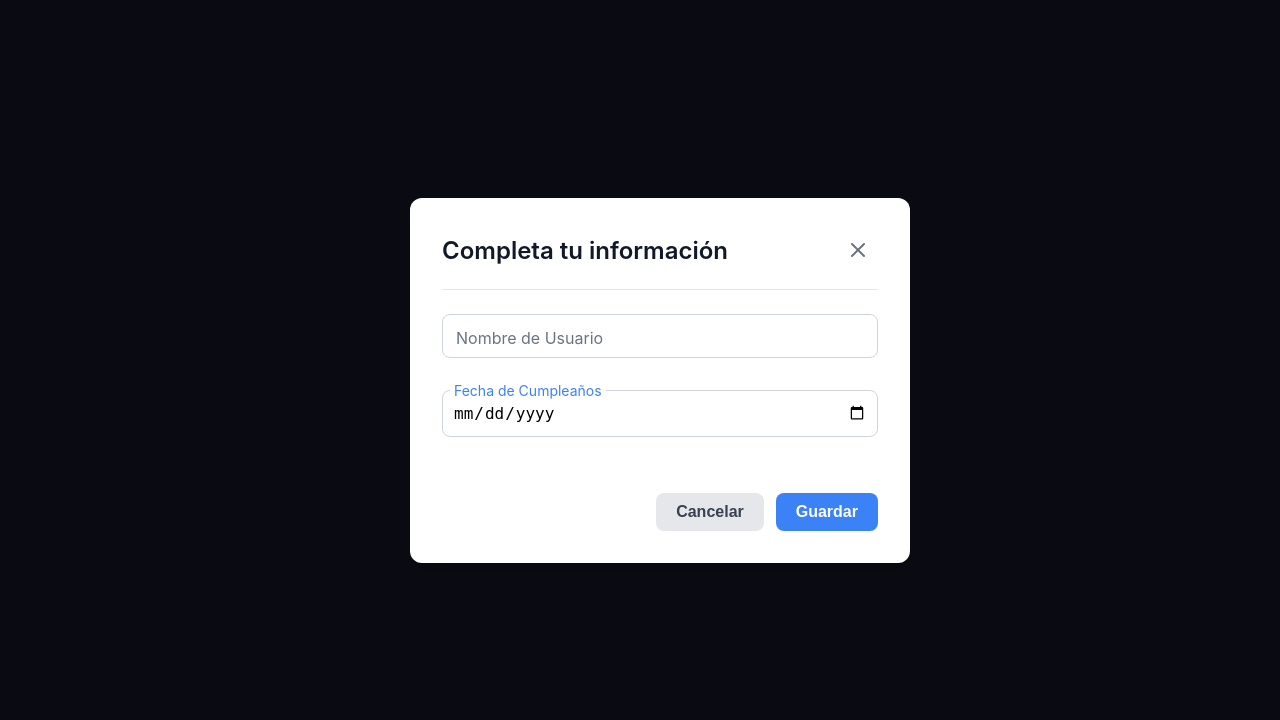
Test: UserForm › Validación del Formulario › elimina el mensaje de error de un campo cuando el usuario empieza a escribir en él
// Primero, forzamos la aparición del error
Click the button "Guardar" at [827, 512], box [776, 492, 878, 530]
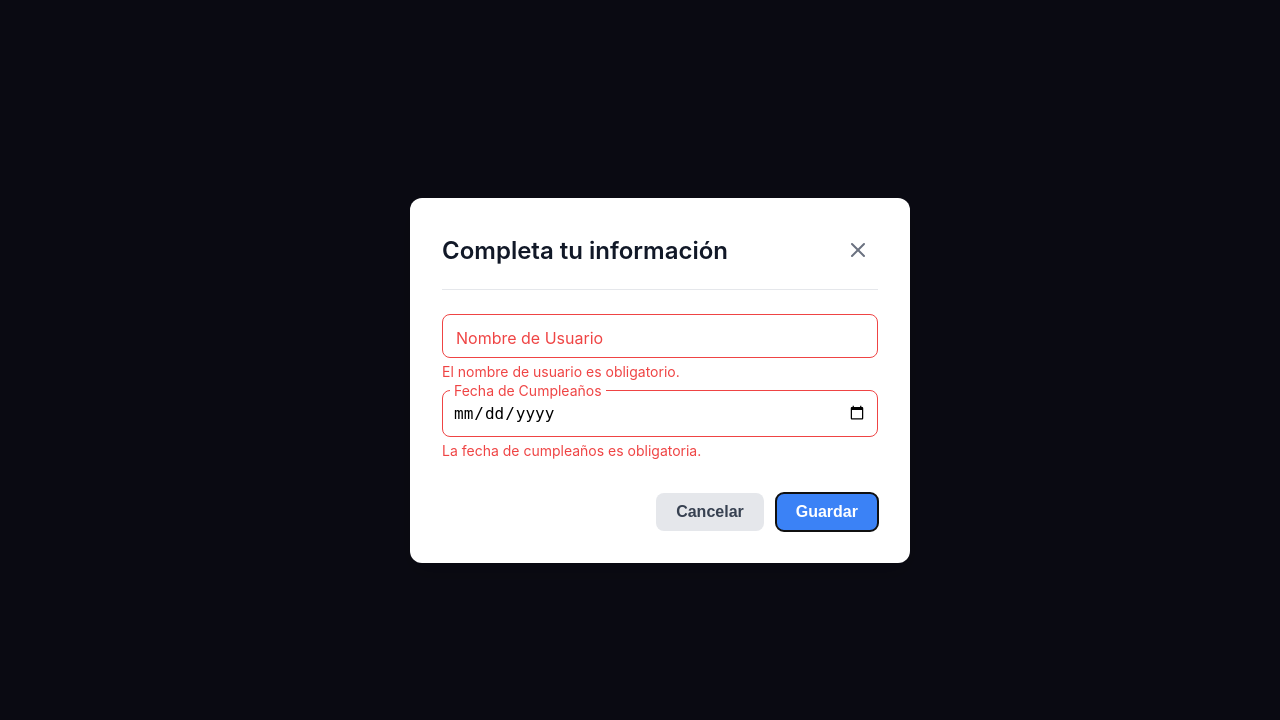
Result: the text "El nombre de usuario es obligatorio." is shown at [442, 360, 680, 382]
// Luego, escribimos en el campo
Type "a" into the field labelled "Nombre de Usuario" at [660, 336], box [442, 314, 878, 358]
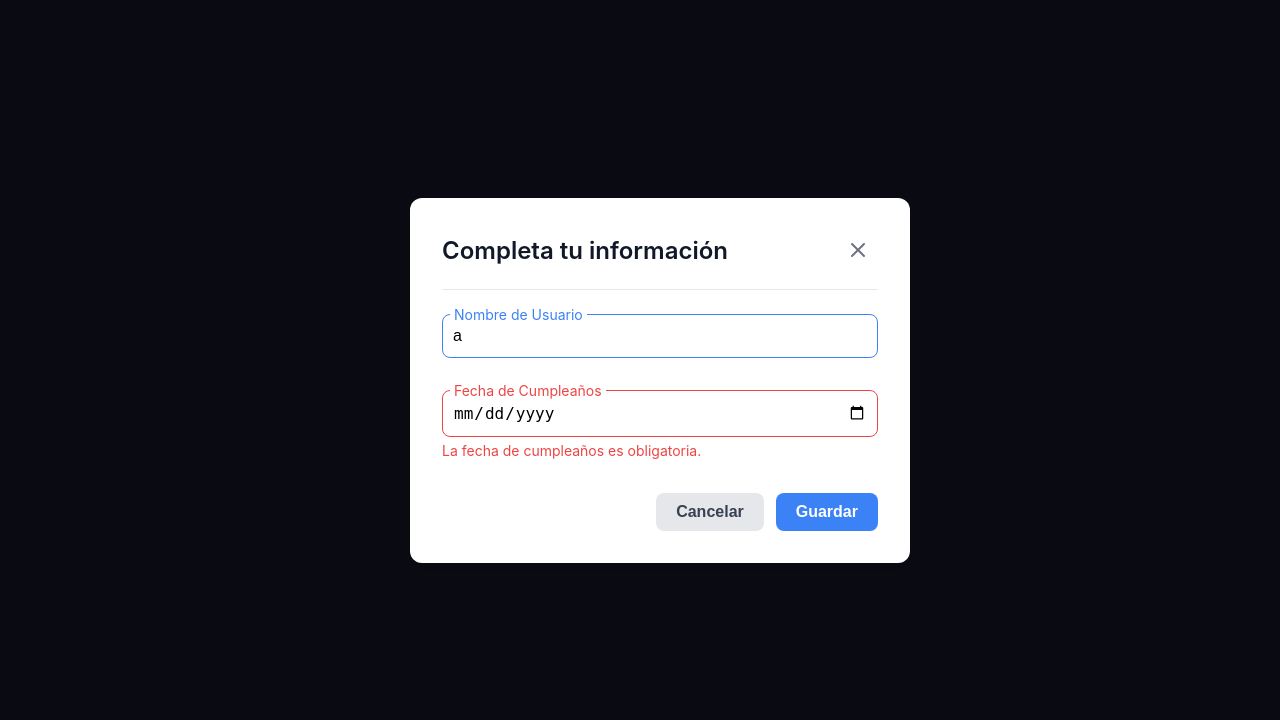
Result: the text "El nombre de usuario es obligatorio." is gone
